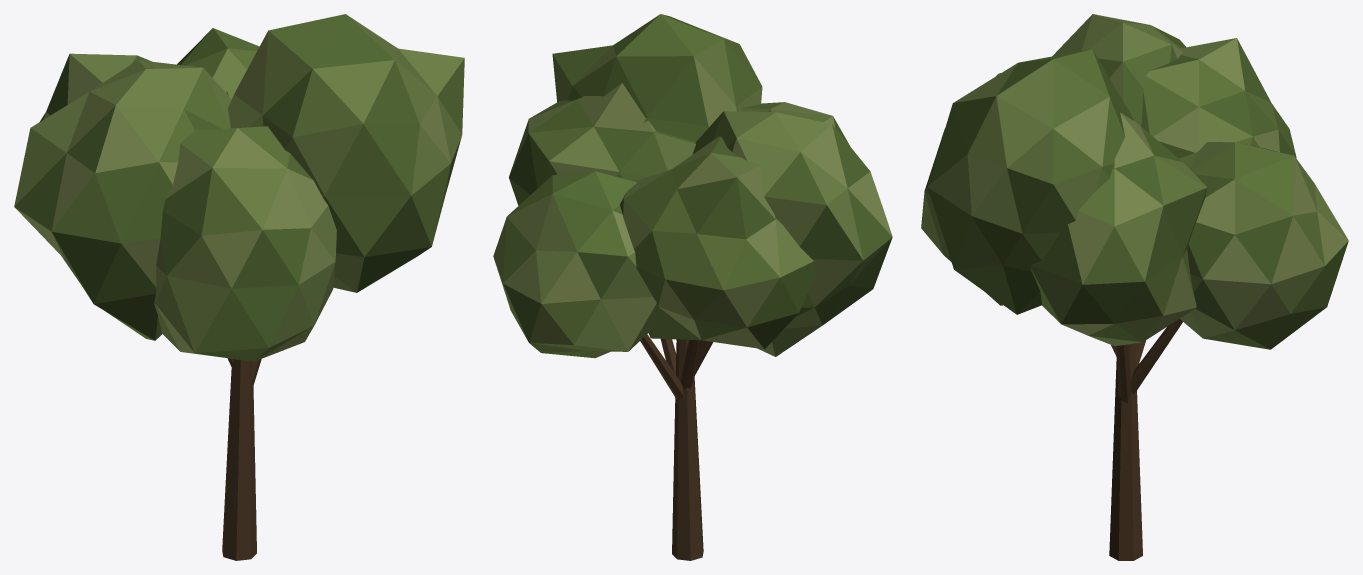
The model's file is Tree05.obj.
3 renders of one model, left to right at view 1: azimuth 30°, elevation 25°; view 2: azimuth 150°, elevation 25°; view 3: azimuth 270°, elevation 25°, orthographic. The views are drawn at different scales.
Parts seen in each view (by area): view 1: Crown.004, Trunk.004; view 2: Crown.004, Trunk.004; view 3: Crown.004, Trunk.004.
Boxes of the visible parts, <box> form: Crown.004: <box>14,14,464,361</box>; Trunk.004: <box>222,358,261,560</box>; Crown.004: <box>493,14,892,358</box>; Trunk.004: <box>640,334,713,560</box>; Crown.004: <box>921,14,1348,349</box>; Trunk.004: <box>1109,319,1182,560</box>.
Bounding box in the file's own units: 5.92 × 7.72 × 5.68.
